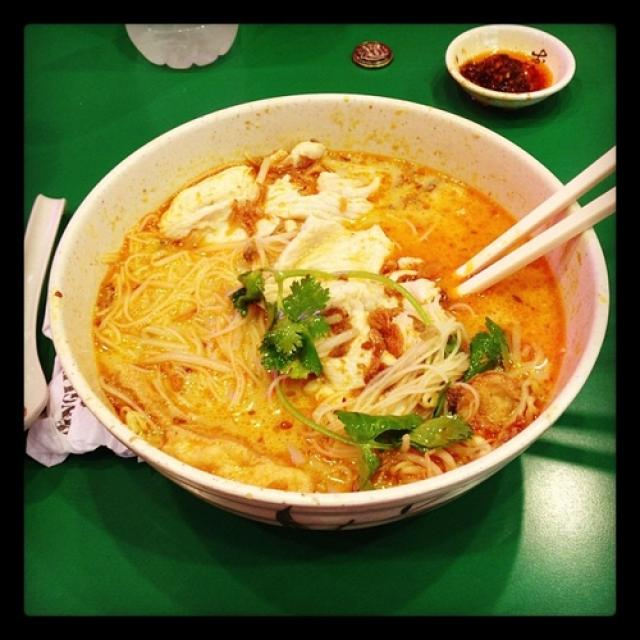面条主食: (45, 96, 591, 525)
